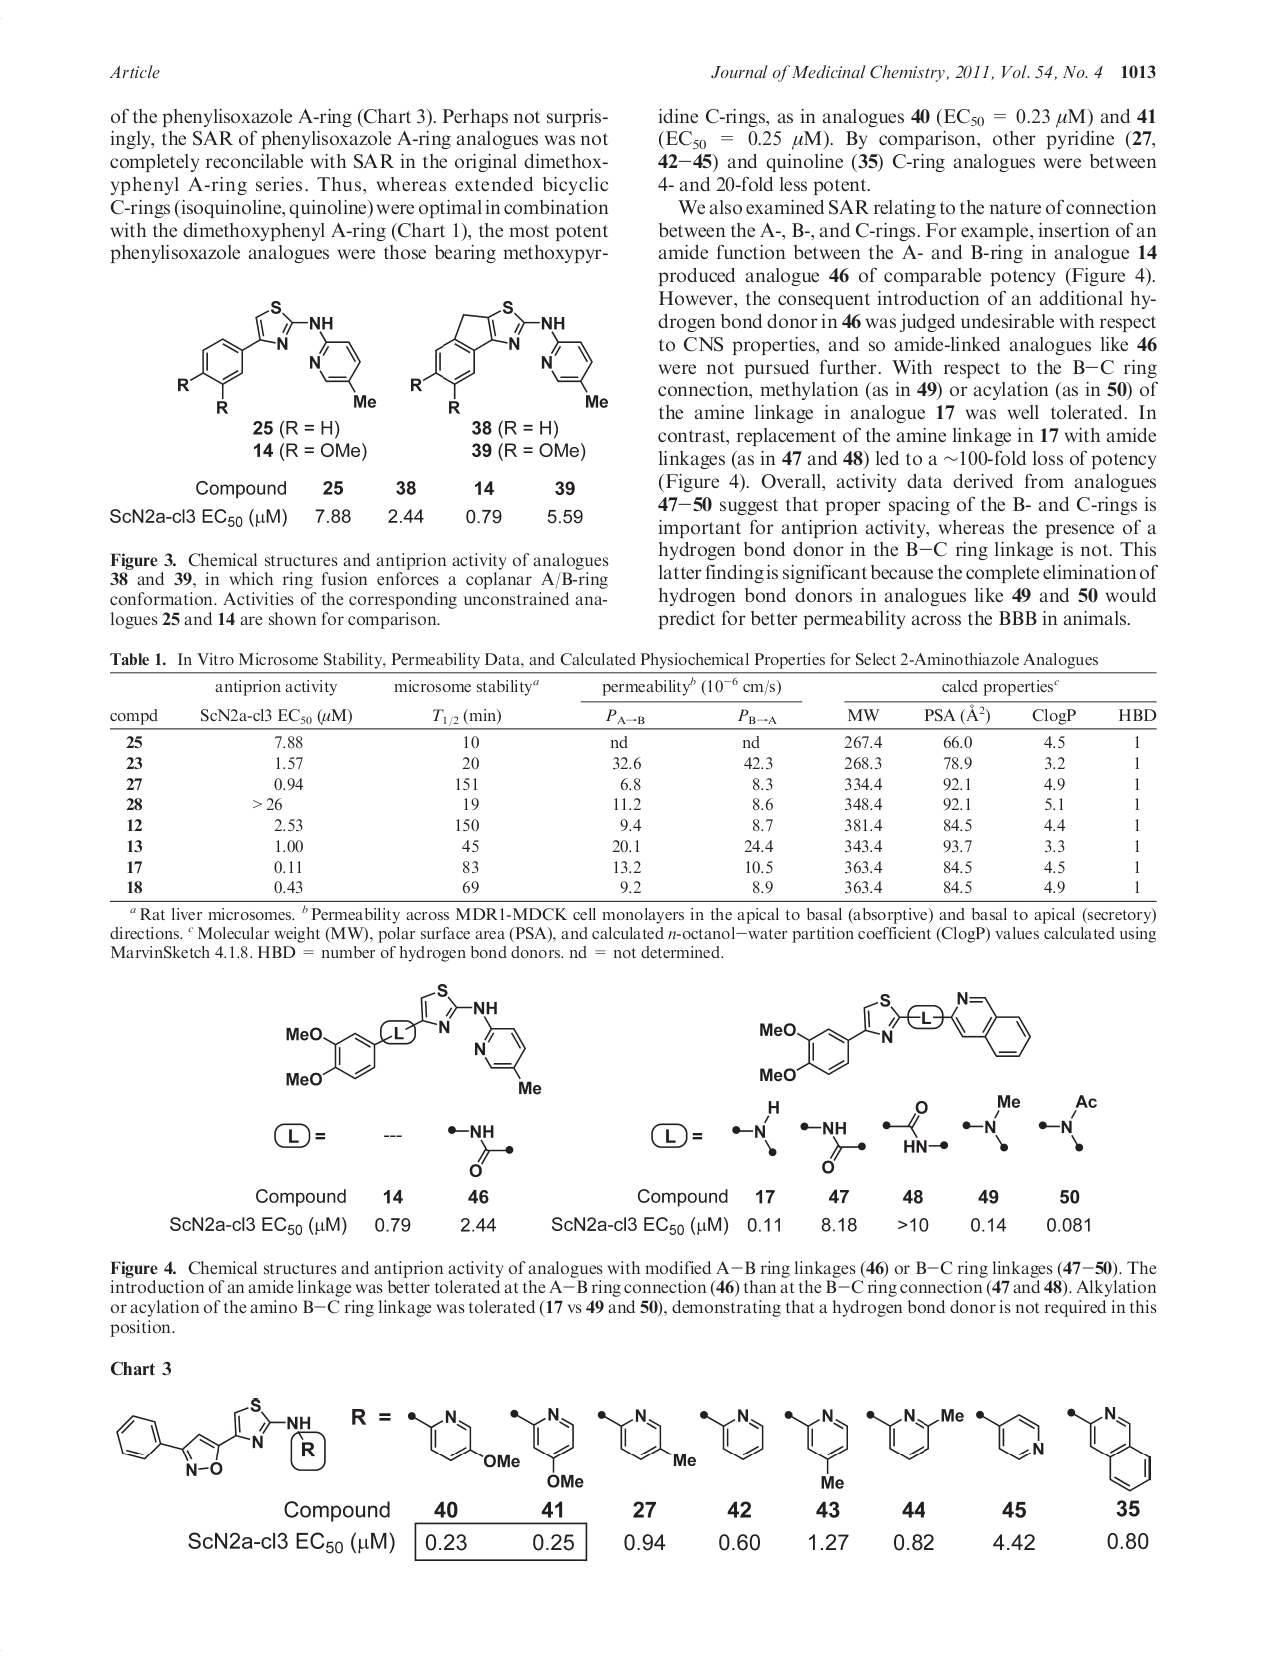exist_molecular: (282, 977, 543, 1100), (750, 981, 1048, 1083), (172, 294, 380, 418), (406, 293, 613, 416), (113, 1391, 328, 1480), (1061, 1395, 1161, 1495), (403, 1402, 523, 1474), (781, 1398, 856, 1497), (511, 1396, 589, 1491), (593, 1398, 698, 1468), (862, 1392, 968, 1462), (971, 1400, 1048, 1466), (696, 1402, 773, 1464), (442, 1117, 517, 1180), (729, 1089, 786, 1166), (798, 1114, 868, 1177), (880, 1096, 951, 1157), (960, 1088, 1027, 1152), (1036, 1089, 1102, 1153)
